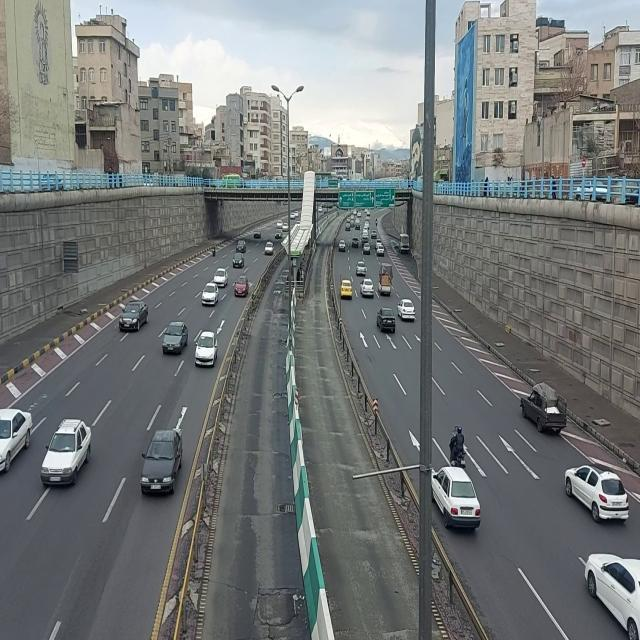Car: (562, 459, 630, 523), (40, 415, 94, 492), (138, 424, 186, 502), (432, 467, 484, 538), (117, 296, 151, 334), (162, 317, 190, 361), (195, 328, 219, 374), (375, 306, 397, 335), (397, 299, 417, 322), (202, 283, 220, 307), (234, 275, 249, 299), (360, 277, 375, 300), (340, 278, 354, 300)
Motorcycle: (447, 423, 467, 468)
Pickup: (520, 383, 568, 439), (377, 262, 393, 296)
